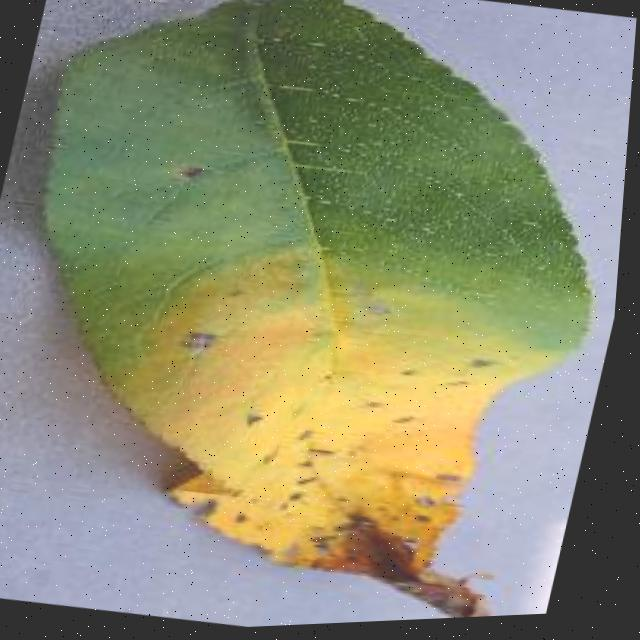Bacterial_spot: (150, 136, 231, 204), (161, 310, 229, 377), (222, 394, 283, 449), (287, 426, 347, 474), (286, 512, 347, 556), (211, 269, 263, 316), (380, 348, 429, 390), (461, 341, 511, 382), (287, 461, 328, 505), (261, 487, 305, 523), (384, 405, 427, 439), (353, 388, 392, 425), (433, 369, 472, 402)
